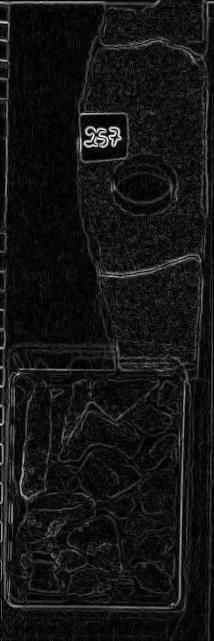hplug: (107, 149, 179, 219)
